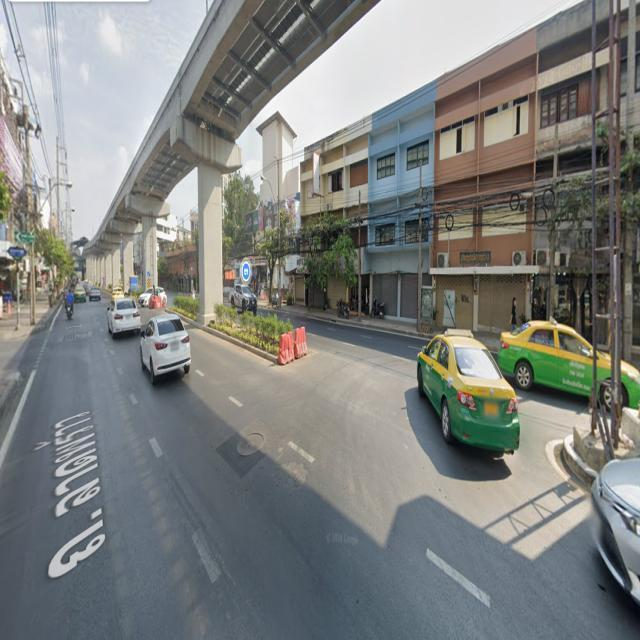fallen_object: (269, 319, 316, 369)
